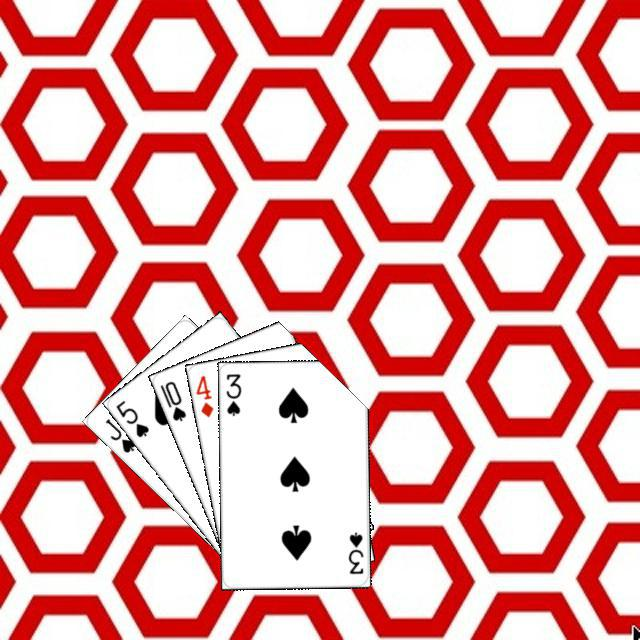10s: (155, 376, 188, 423)
3s: (343, 527, 365, 576), (221, 369, 243, 417)
4d: (191, 370, 215, 419)
5s: (111, 395, 151, 439)
Js: (100, 414, 137, 454)
